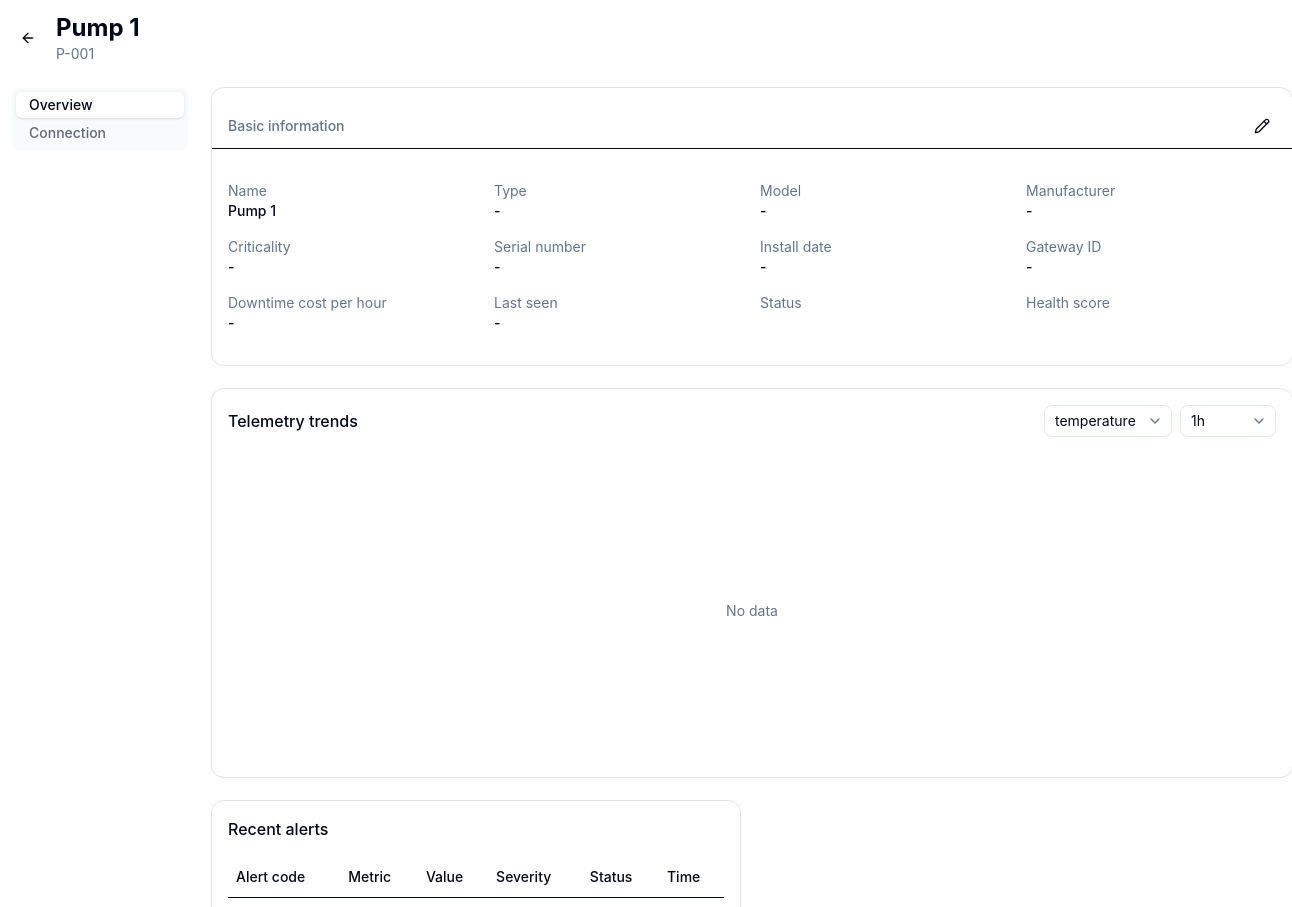
Scenario: 设备详情连接配置英文界面 › 网关选择提示应使用翻译资源而不是硬编码中文
Click the tab "Connection". click: coordinates (100, 133)
box: [16,120,184,146]
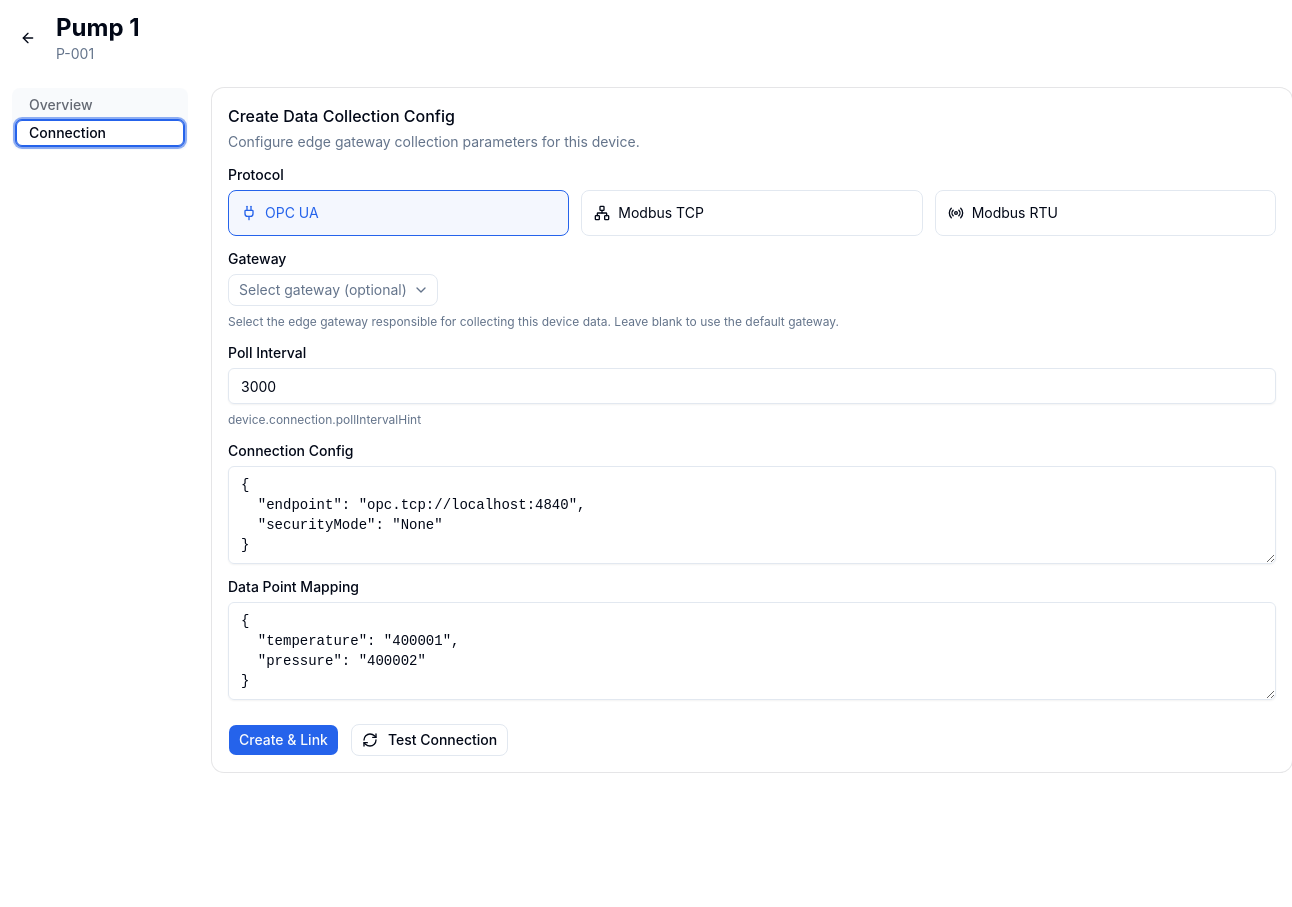
expect the text "Select gateway (optional)" is shown: met, box [239,280,407,300]
expect the text "Select the edge gateway responsible for collecting this device data. Leave blank to use the default gateway." is shown: met, box [228,314,839,329]
